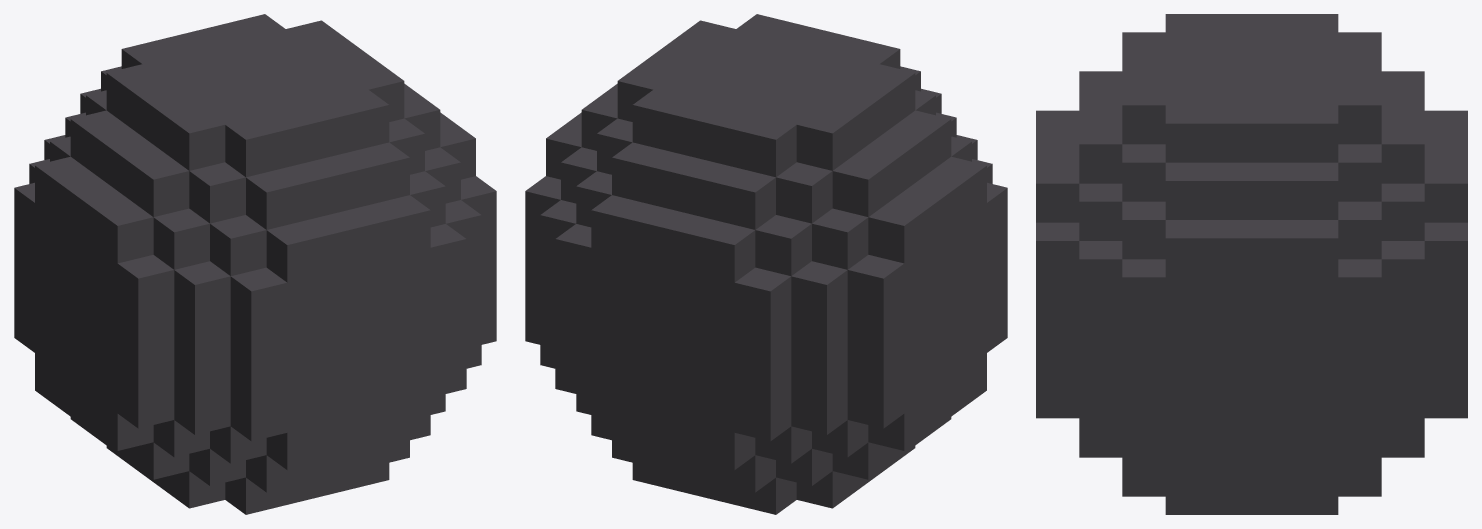
Rendered from sphere_grey.fbx.
The picture shows the model from 3 angles, left to right: view 1: azimuth 30°, elevation 25°; view 2: azimuth 150°, elevation 25°; view 3: azimuth 270°, elevation 25°; orthographic projection. The views are drawn at different scales.
Visible parts, largest first — view 1: sphere_grey; view 2: sphere_grey; view 3: sphere_grey.
Part boxes in pixels (<box>): sphere_grey: <box>14,14,496,514</box>; sphere_grey: <box>525,14,1007,514</box>; sphere_grey: <box>1036,14,1467,514</box>.
Bounding box in the file's own units: 10 × 10 × 10.
1 material, 1 textured.
